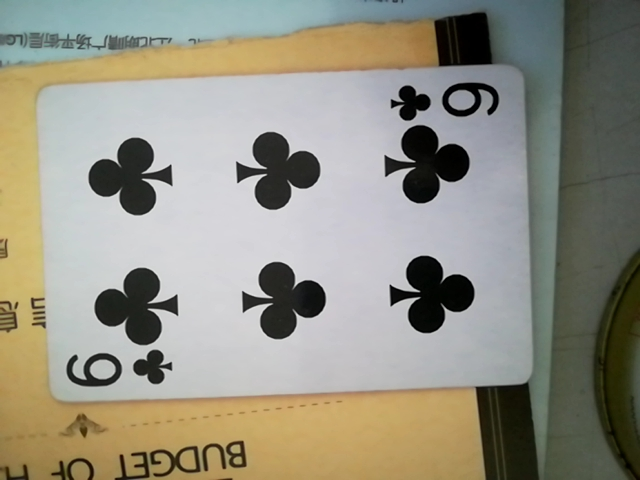mh 6: (30, 68, 534, 414)
